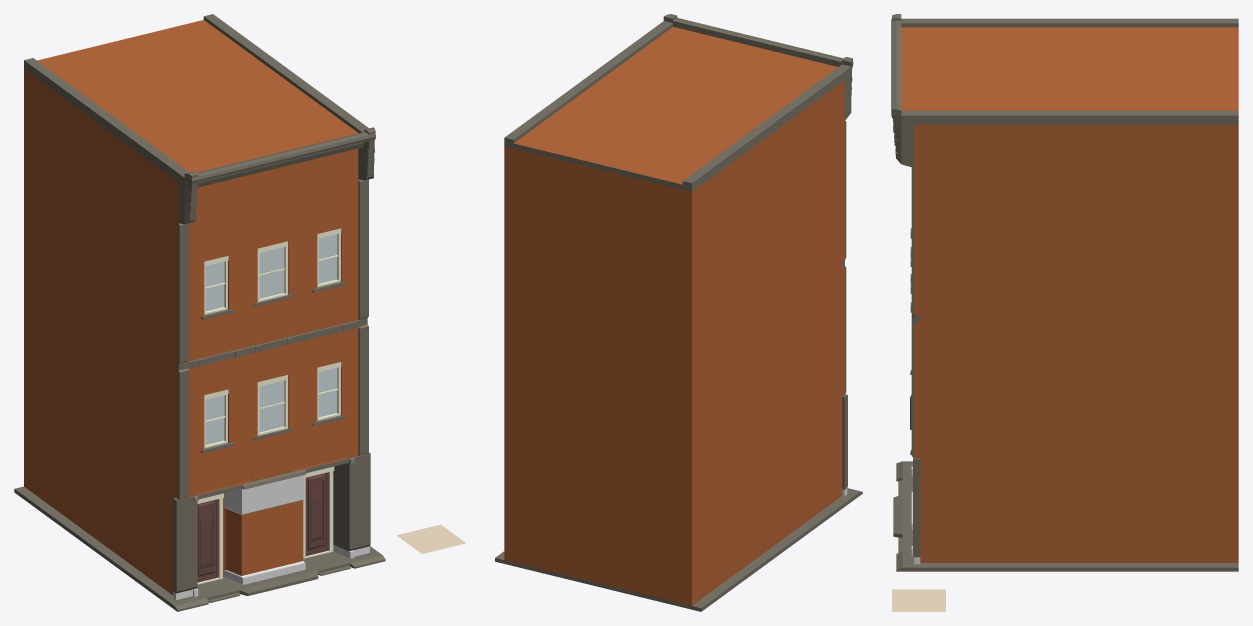
Rendered from building.fbx.
3 views of the same model, side by side, from view 1: azimuth 30°, elevation 25°; view 2: azimuth 150°, elevation 25°; view 3: azimuth 270°, elevation 25° (orthographic). The views are drawn at different scales.
Parts seen in each view (by area): view 1: Cube.011, Plane; view 2: Cube.011; view 3: Cube.011, Plane.
Part boxes in pixels (bbox=[...]): Cube.011: bbox=[14, 14, 385, 611]; Plane: bbox=[397, 524, 465, 553]; Cube.011: bbox=[495, 14, 862, 611]; Cube.011: bbox=[891, 14, 1238, 571]; Plane: bbox=[892, 589, 945, 611].
Size of the model in its own units: 1290 by 1870 by 1290.
